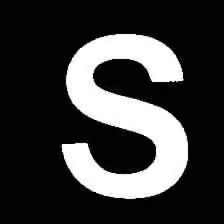LTR_S: (54, 23, 199, 204)
